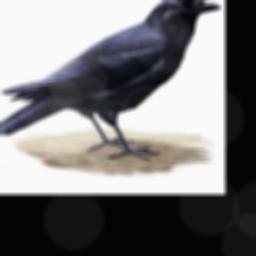Crow: (0, 0, 221, 163)
